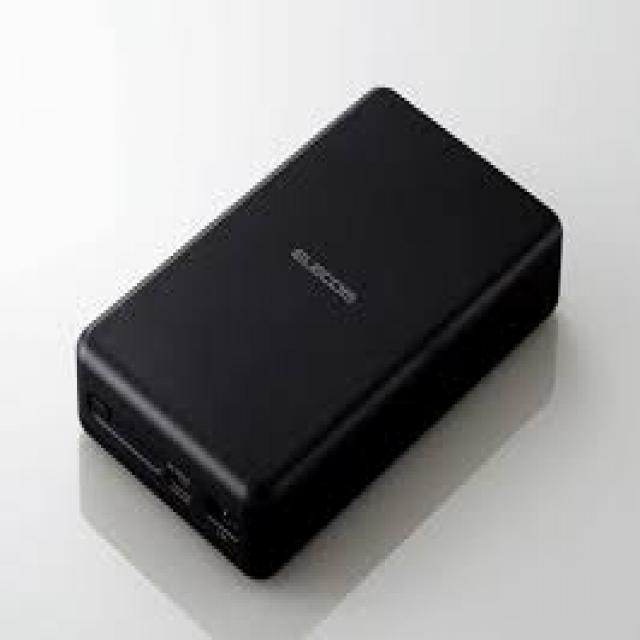hazard: (84, 78, 574, 552)
